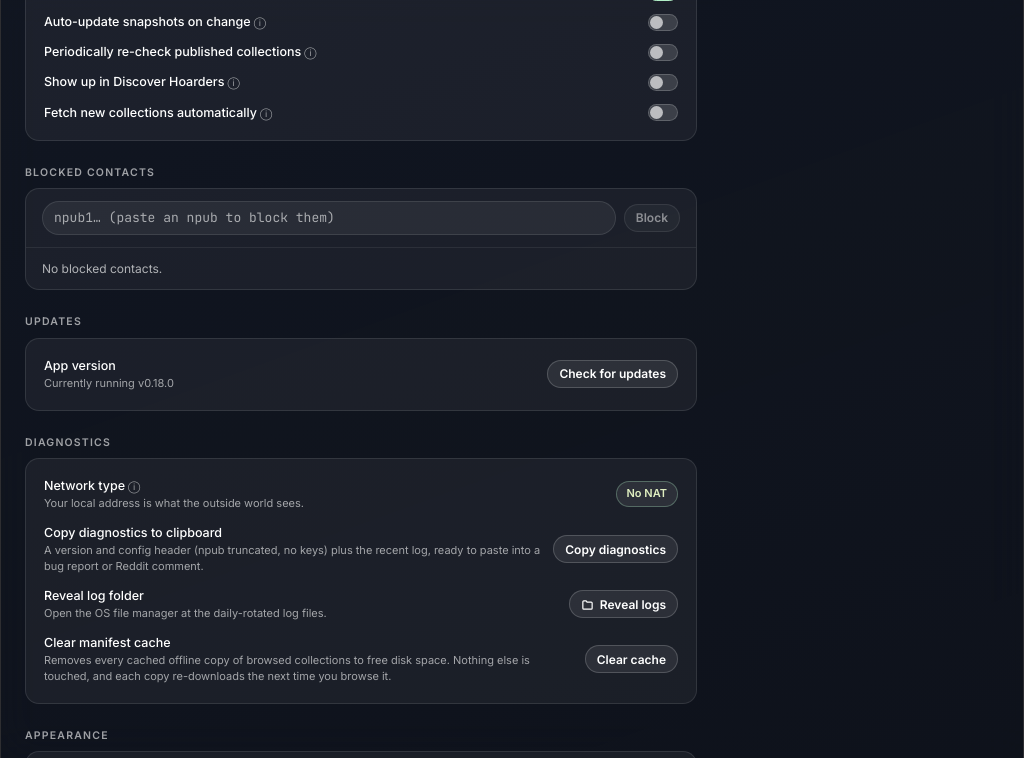
Test: QURATOR-158 — background update check on mount › MANUAL button unchanged: a failure still reports its error (regression guard)
(page scrolled)
Click the button "Check for updates" at (613, 374), box [547,360,678,388]
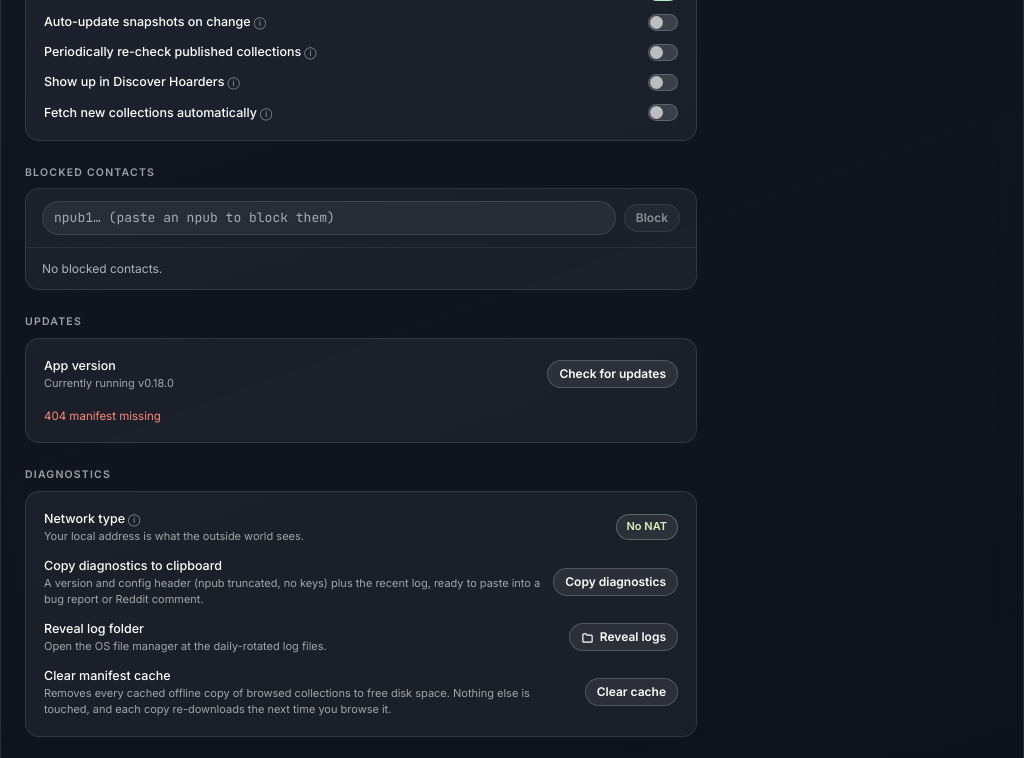
Expected: the text with class "update-error-text" reads "404 manifest missing", [44,409,161,423]
